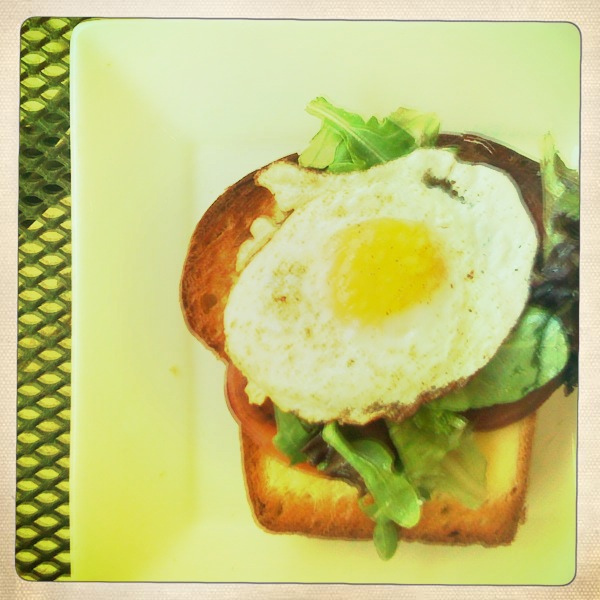chopped lettuce: (283, 415, 480, 555)
fried egg: (218, 167, 535, 427)
slice of bread: (239, 433, 542, 554)
